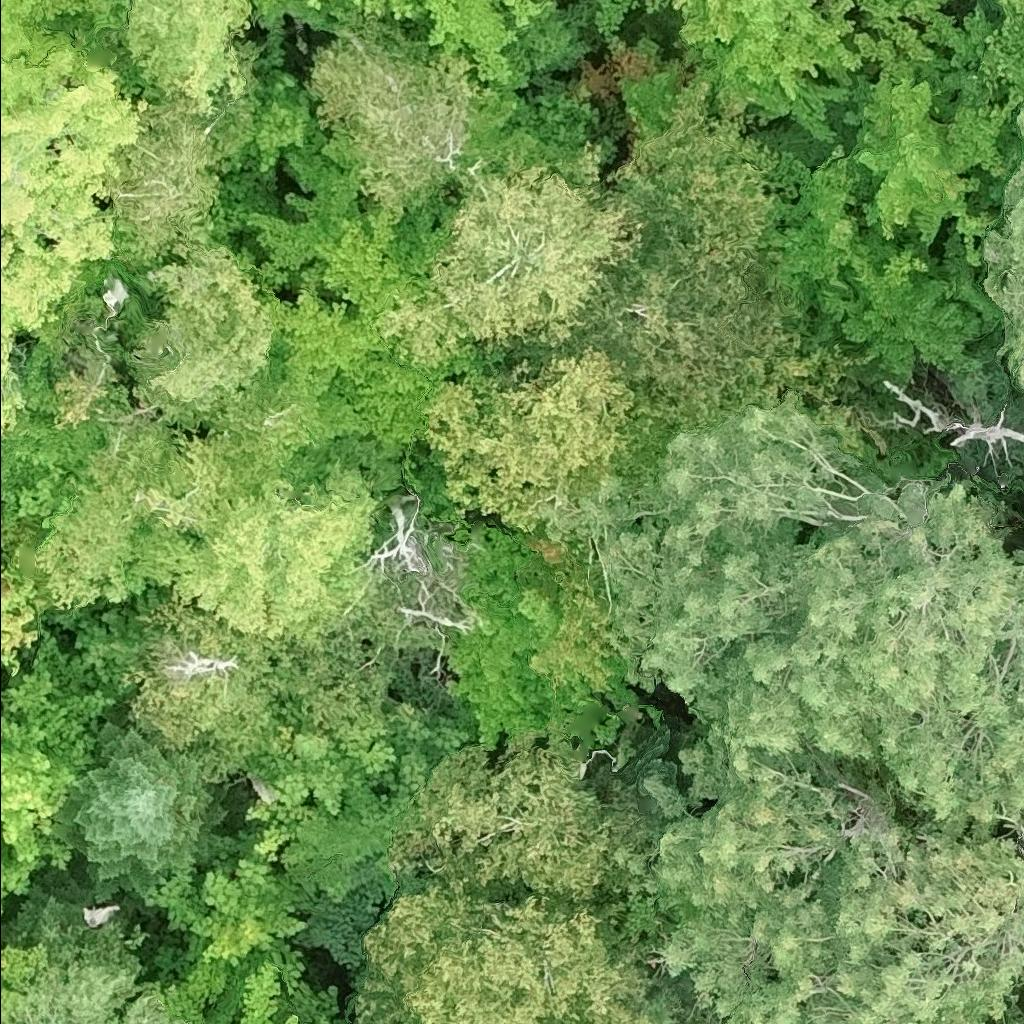crown: (615, 737, 1023, 1023), (0, 607, 167, 919), (386, 720, 663, 902), (347, 877, 664, 1023), (148, 830, 350, 1023), (52, 724, 228, 902), (0, 941, 44, 1015), (237, 962, 278, 1023), (280, 1017, 296, 1023), (1012, 1021, 1023, 1023)
